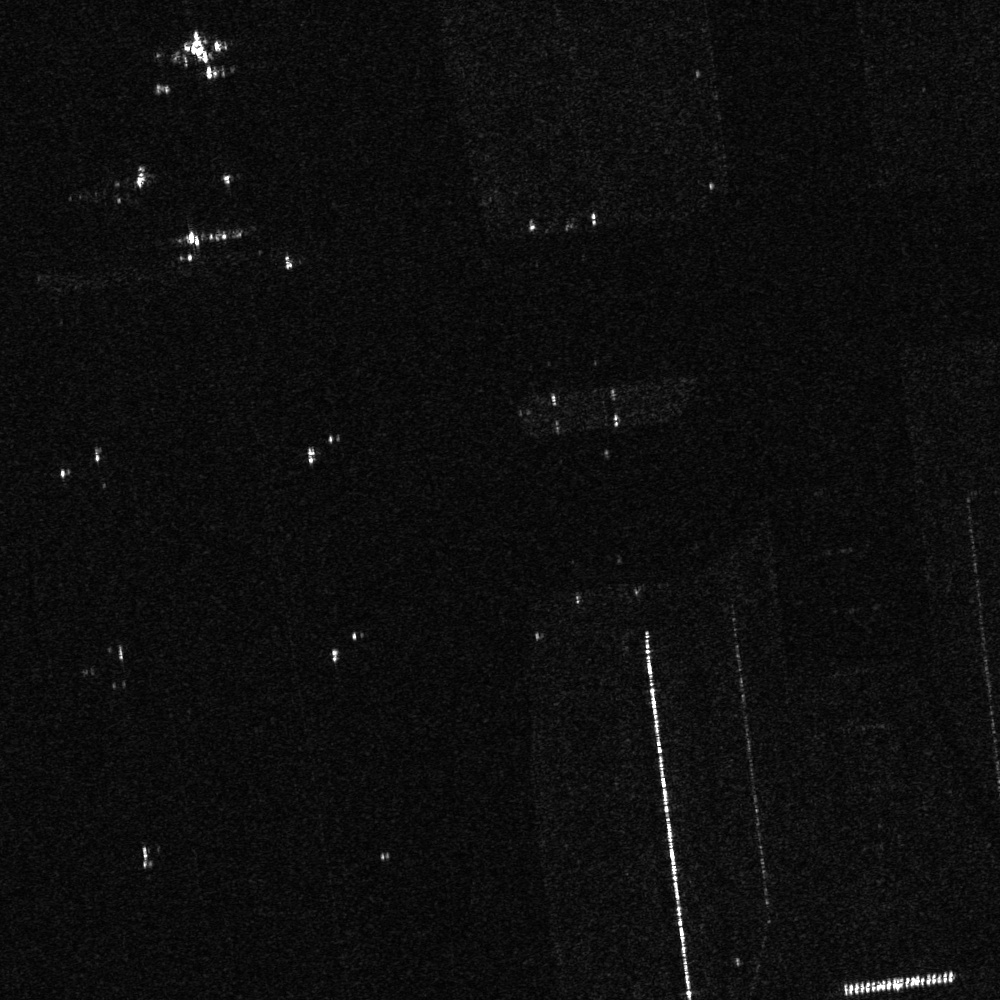A220: (171, 23, 233, 82)
